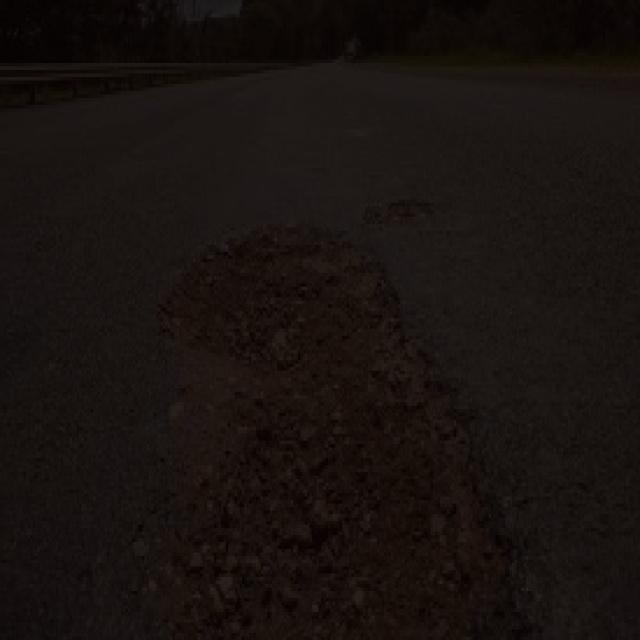Pothole: (133, 210, 525, 640), (374, 185, 430, 218)
